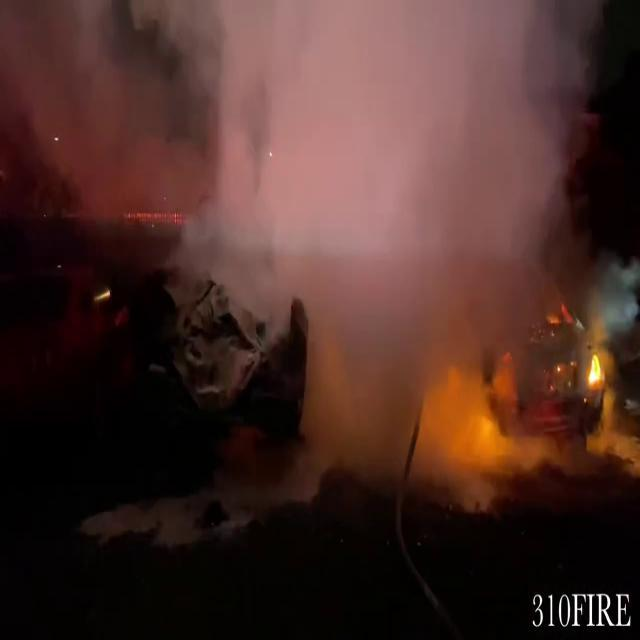Fire: (586, 346, 604, 392)
Smoke: (1, 0, 634, 504)
